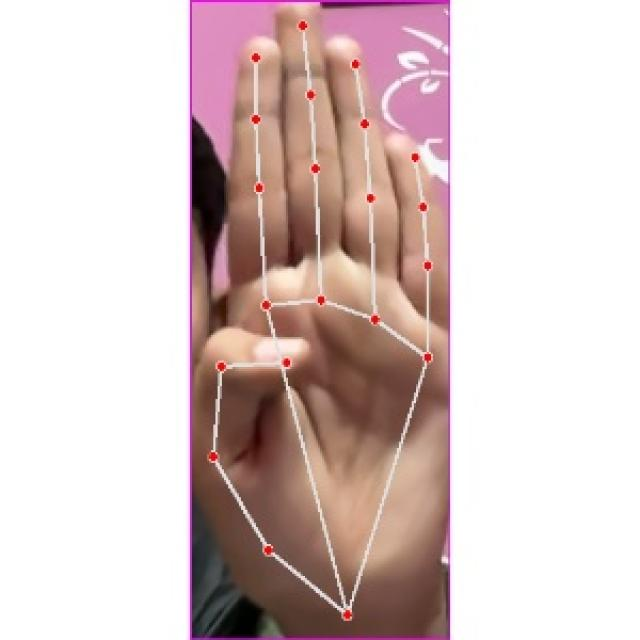B: (196, 0, 445, 635)
